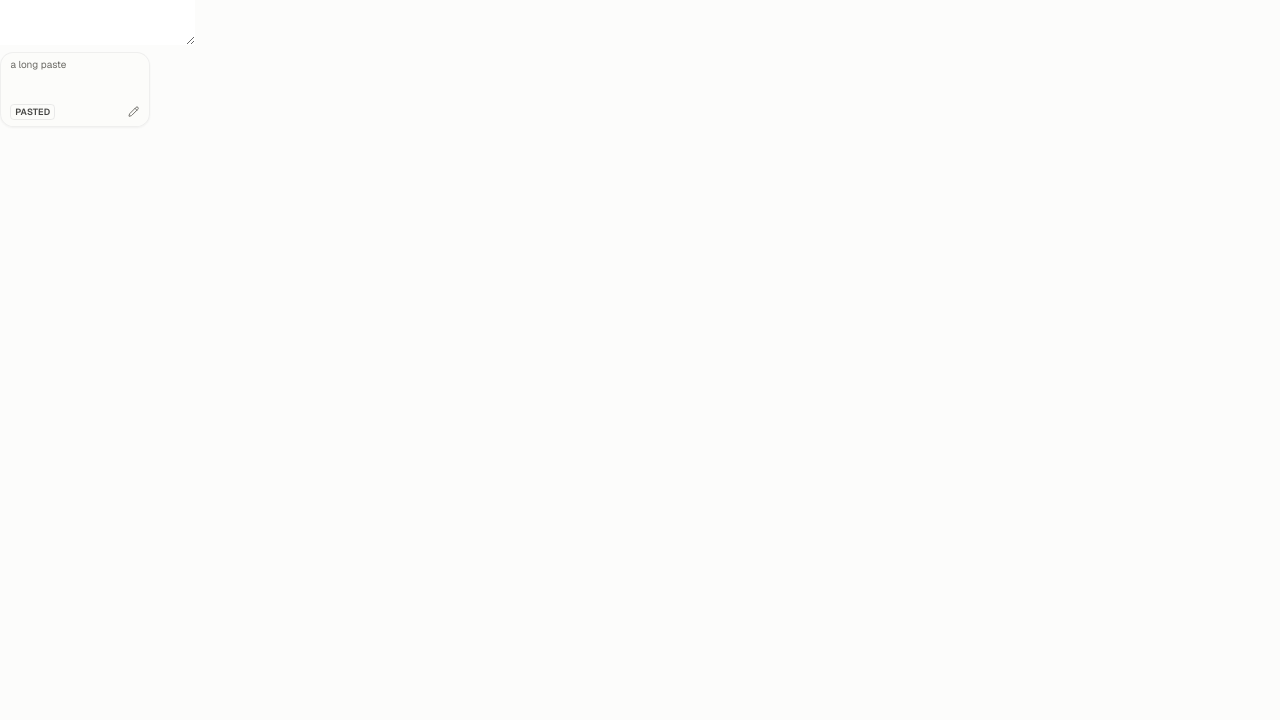
Test: Escape to stop the running turn › leaves Escape to the fork's dialogs and menus while a turn runs
The width and height of the screenshot is (1280, 720).
Earlier steps of the test are not shown.
Later steps or results of the test are not shown.
Click the button with aria-label "Edit pasted text" at (75, 89), box [0,52,150,126]
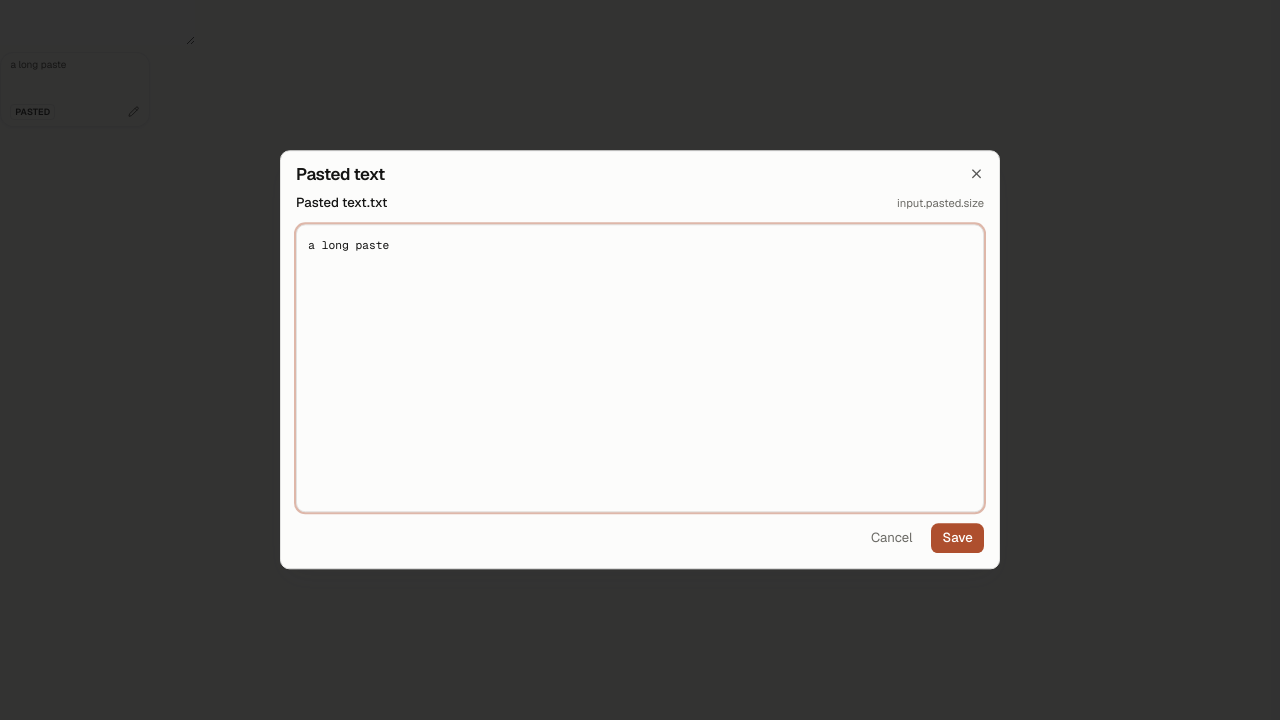
Check: the dialog is shown, box [280,150,1000,570]
Press Escape
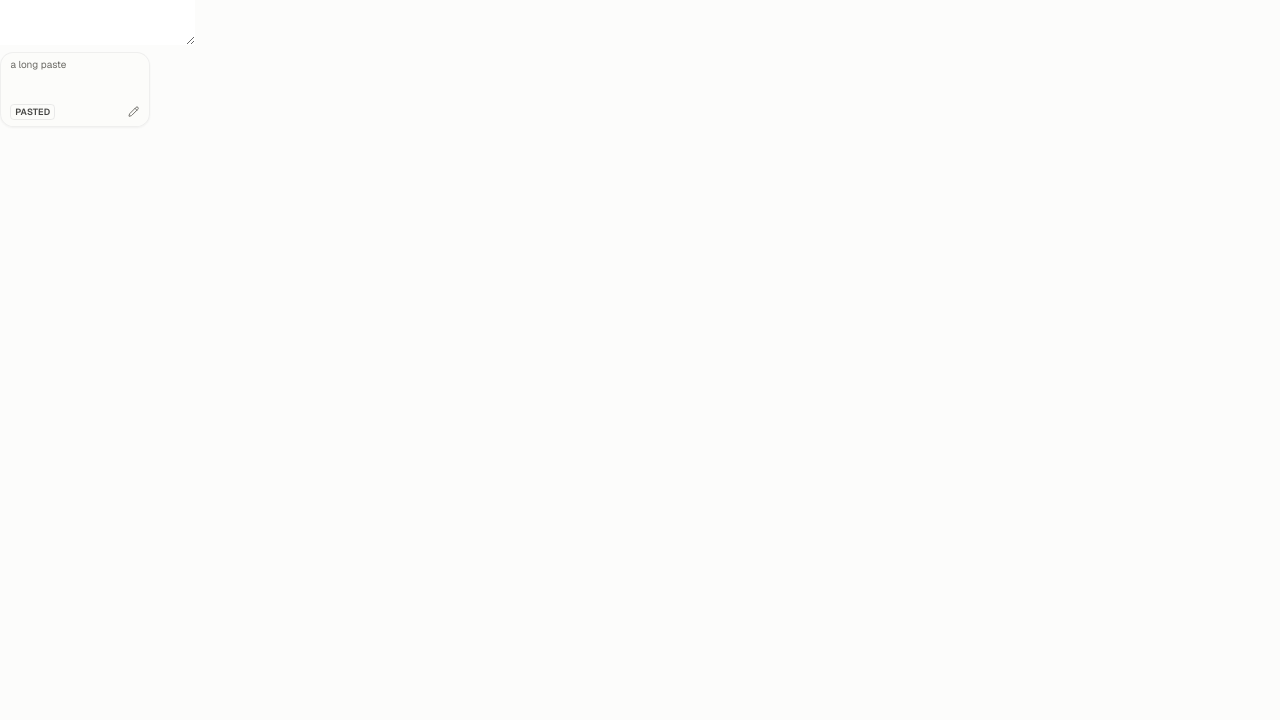
Check: the dialog is gone
